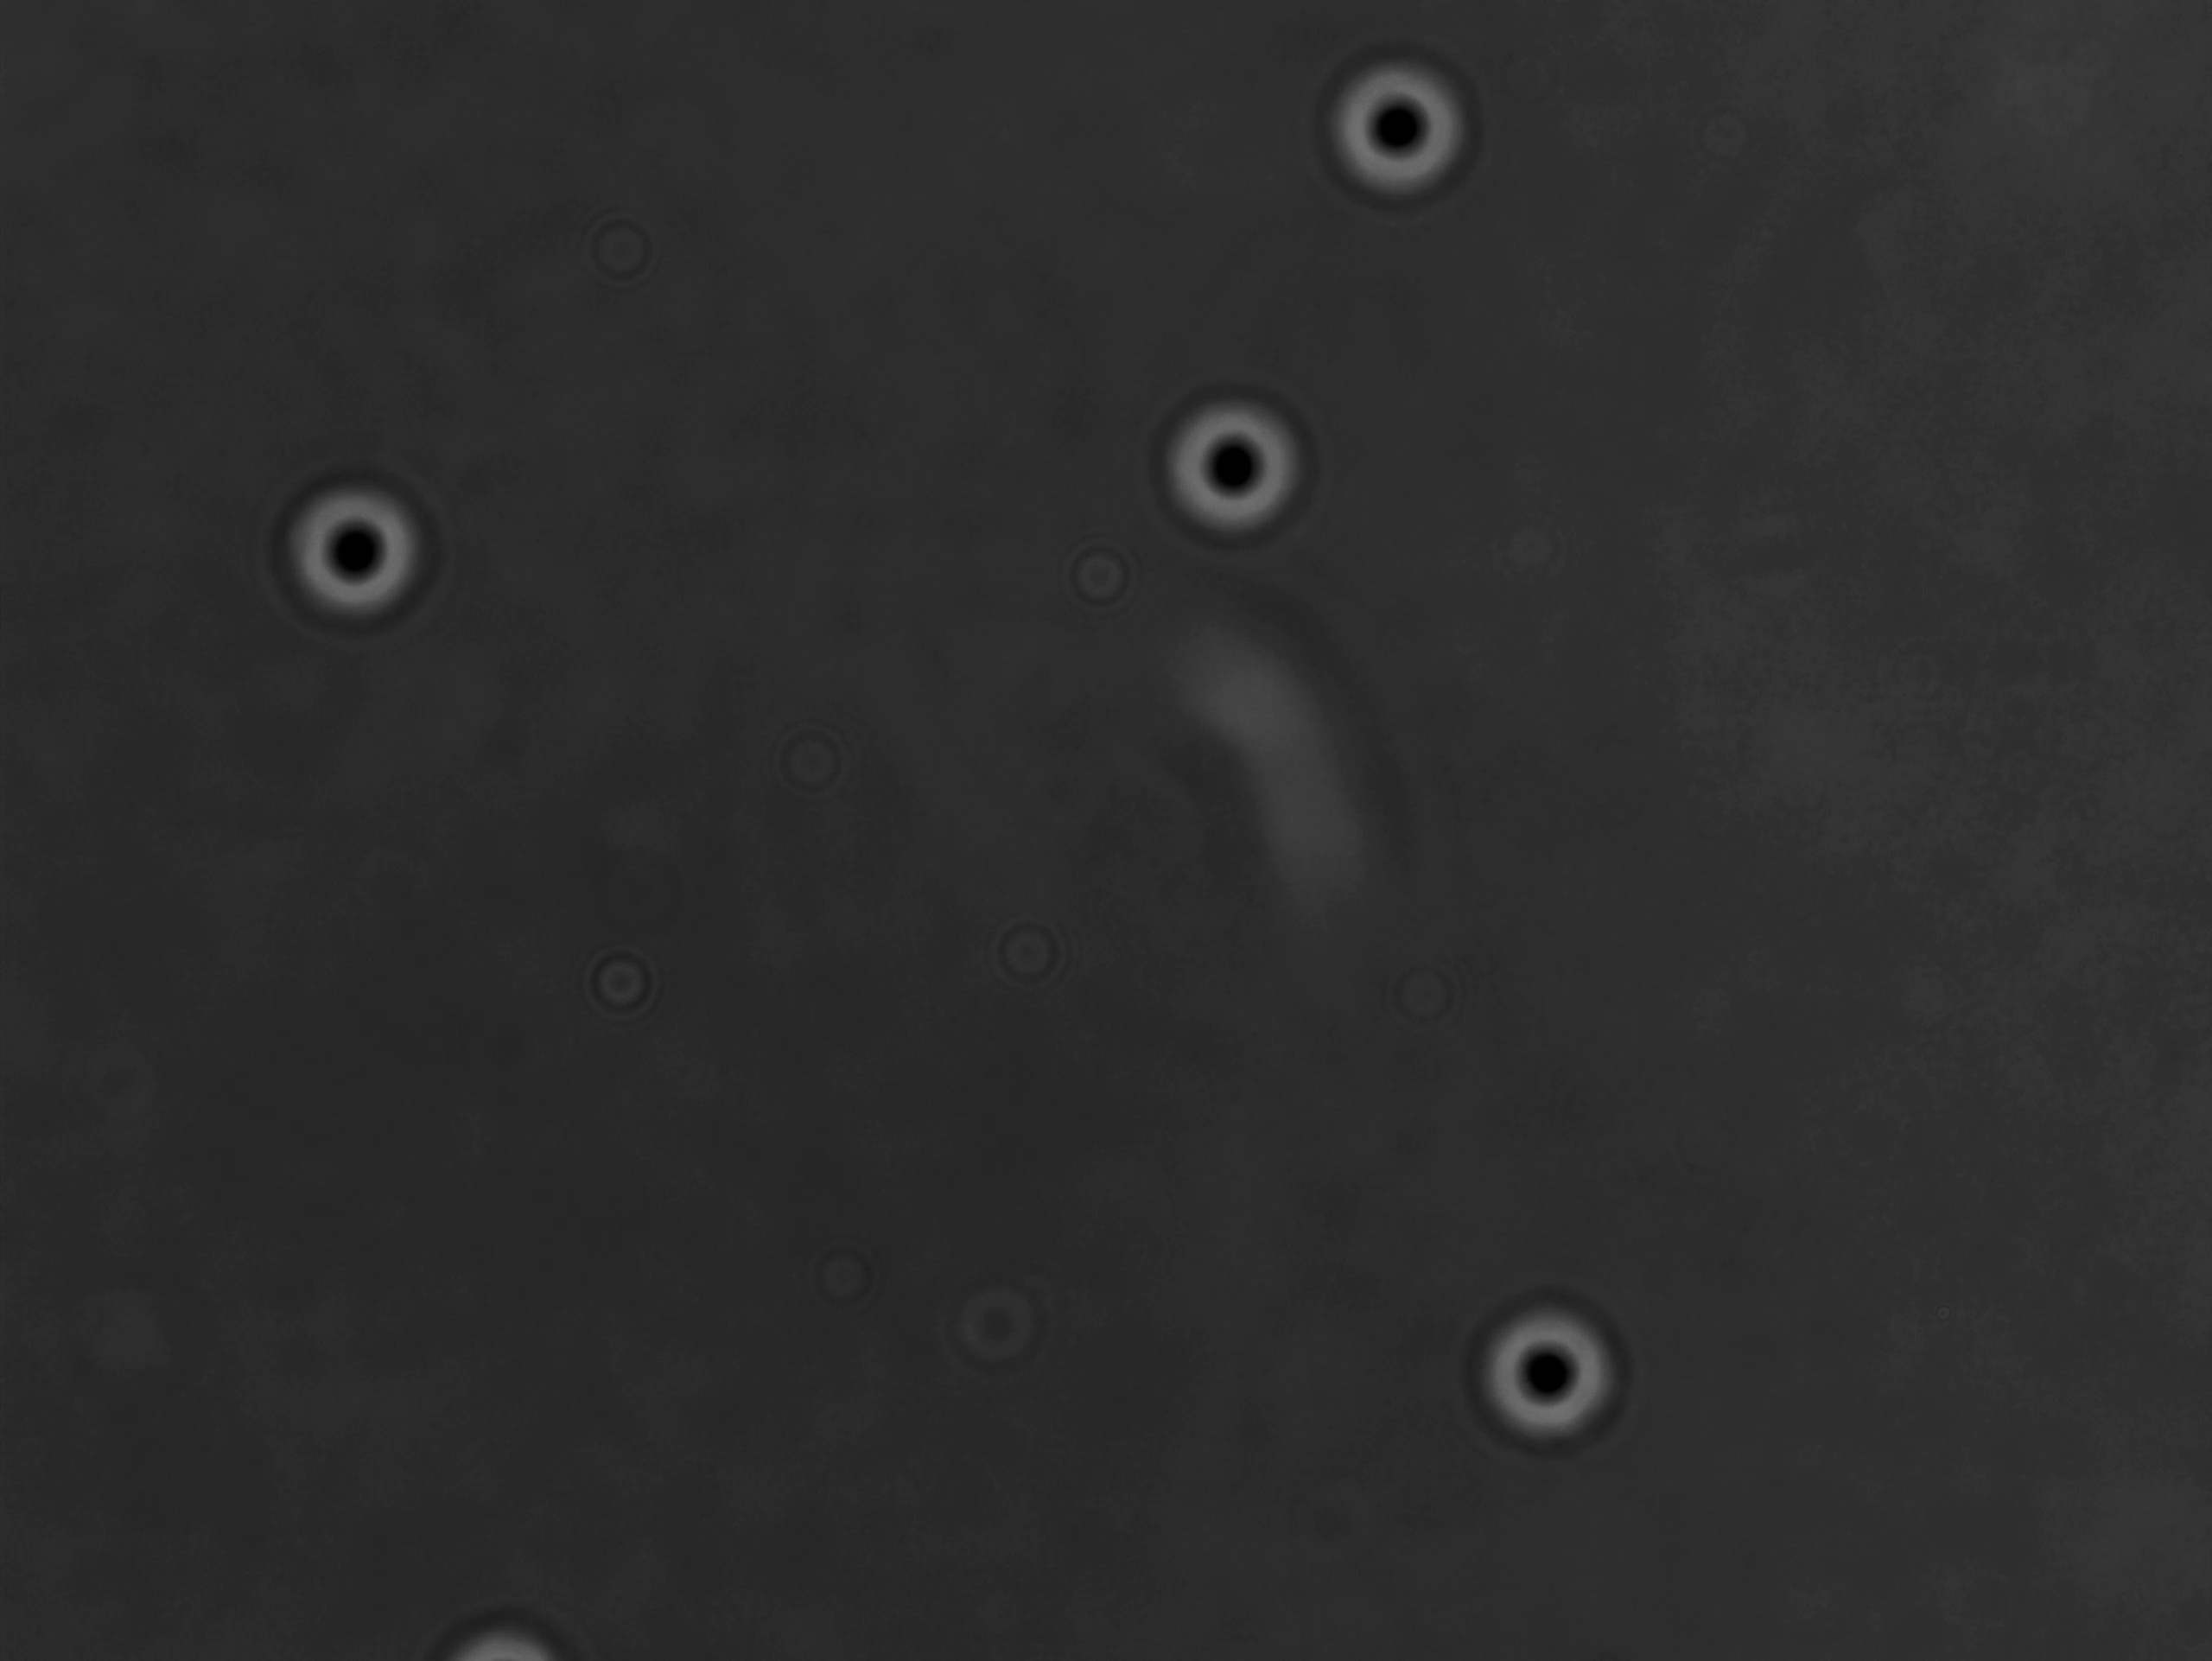depth:-40: (1460, 1275, 1657, 1466), (1139, 379, 1312, 564), (1307, 42, 1474, 216), (260, 468, 429, 637)
